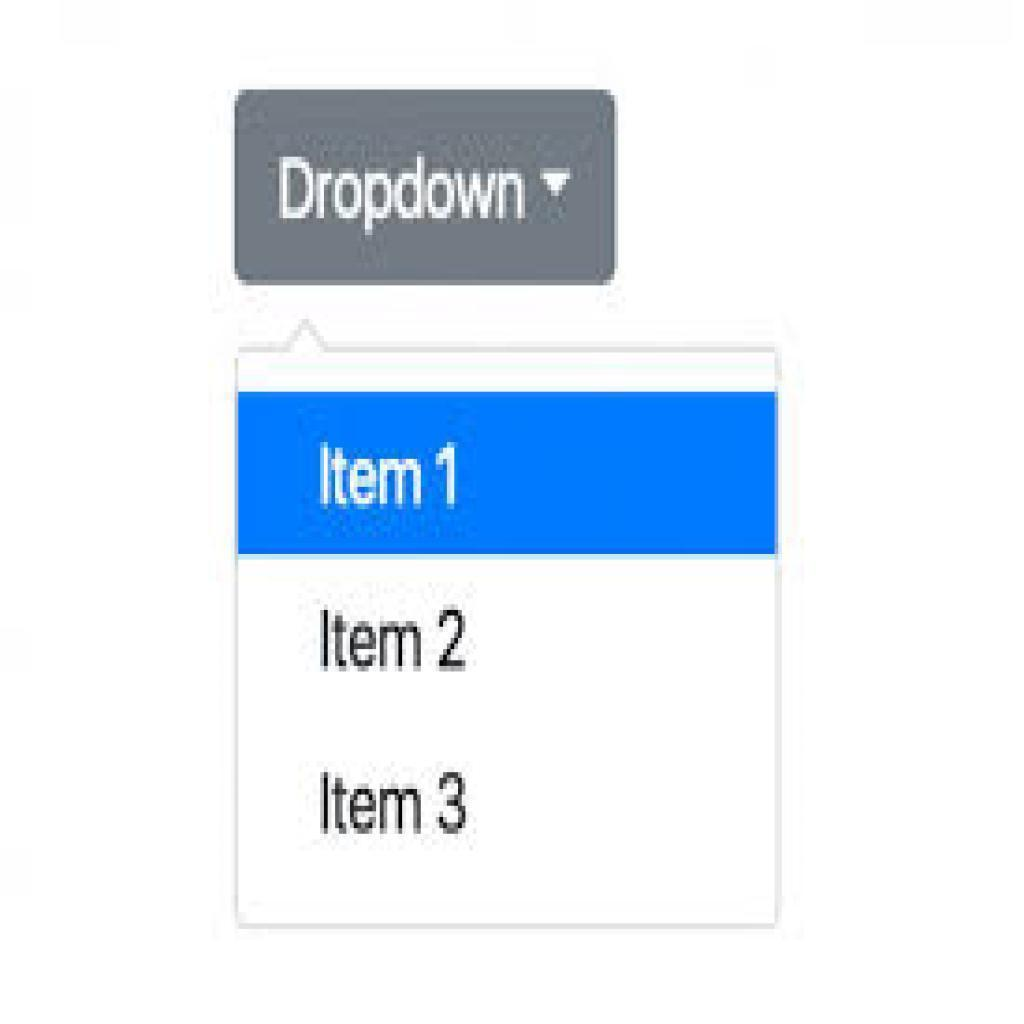button: (237, 390, 780, 560)
dropdown: (234, 92, 618, 285)
